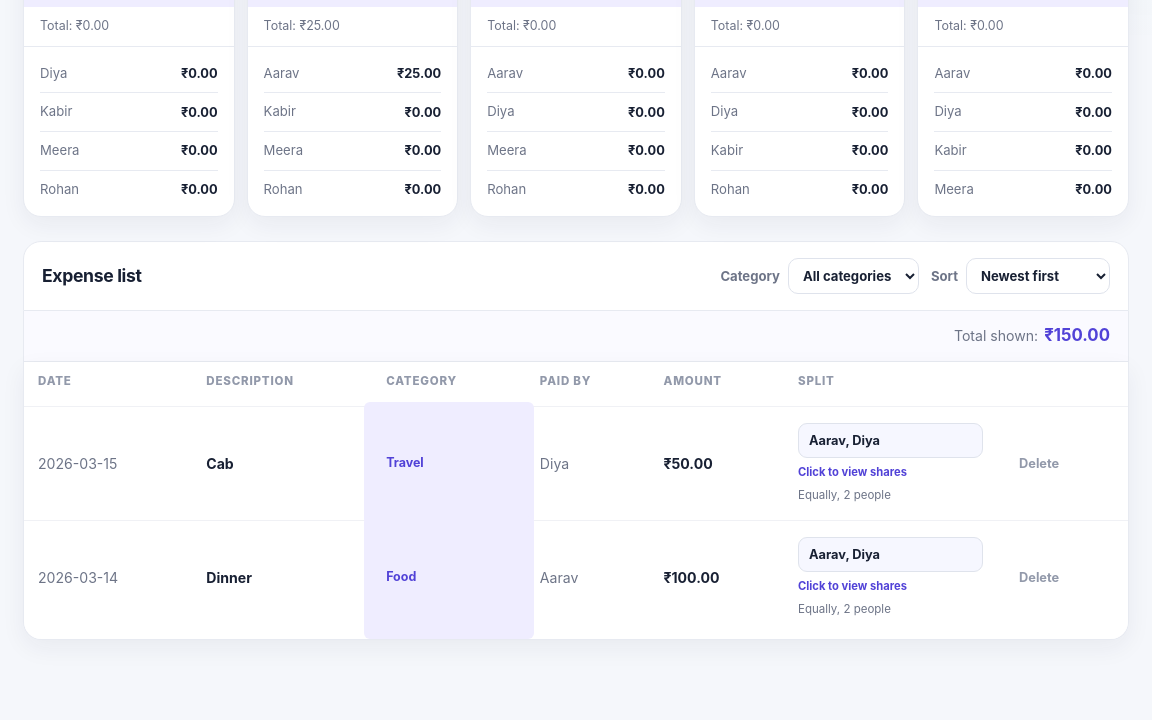
Test: ExpensesPage › confirms deletion and updates balances immediately
The width and height of the screenshot is (1152, 720).
(page scrolled)
Expected: the text "Dinner" is shown, [206, 569, 252, 586]
Click the button "Delete" in the row of "2026-03-14".
click(1039, 578)  # box [1011, 561, 1067, 594]
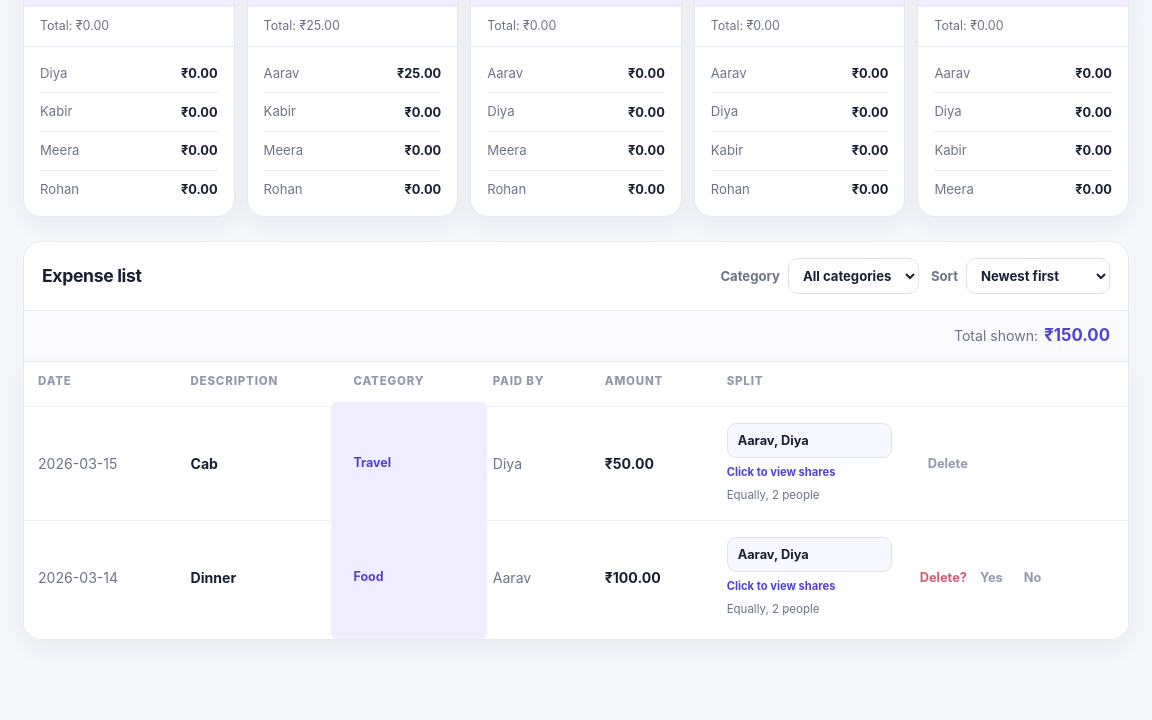
Click the button "Yes".
click(991, 578)  # box [972, 561, 1011, 594]
(page scrolled)
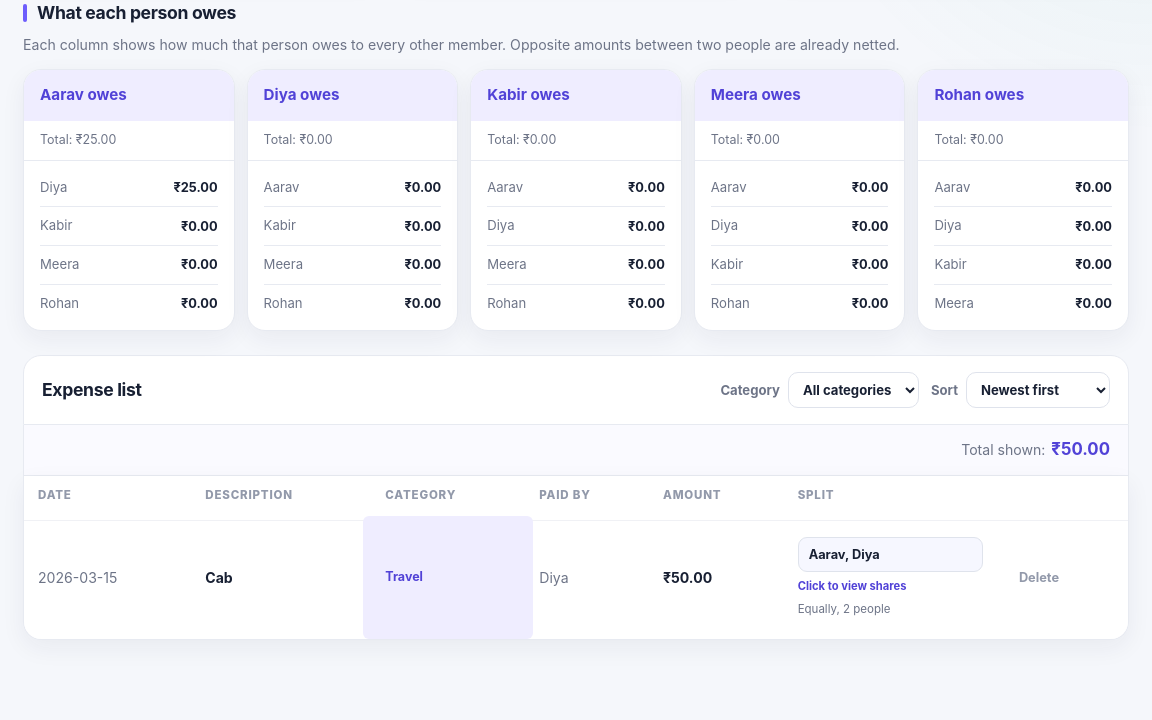
Now the text "Dinner" is gone
Now the text "₹25.00" is shown, box [173, 178, 218, 197]
